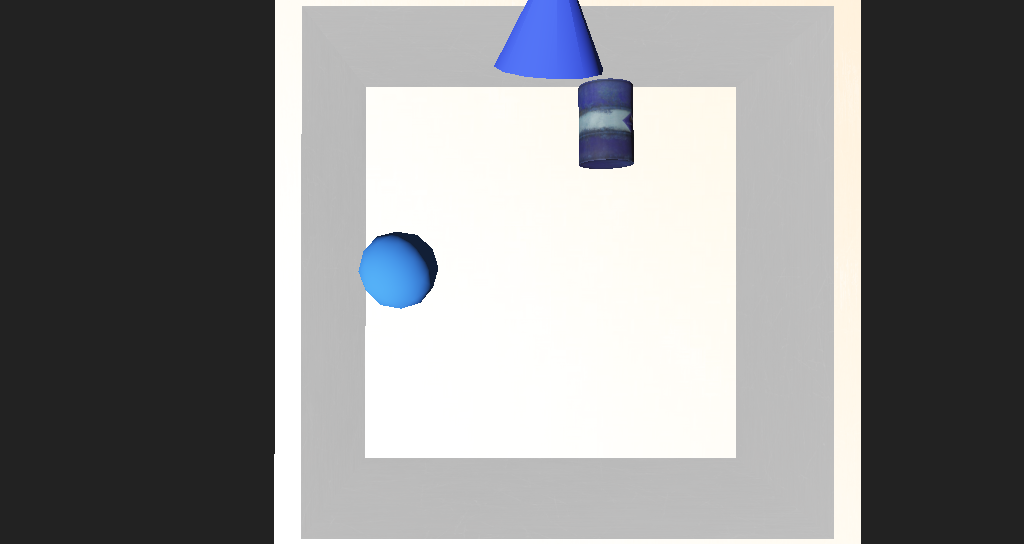cone: (529, 160, 576, 212)
cylinder: (445, 72, 539, 177)
sphere: (354, 246, 414, 289)
